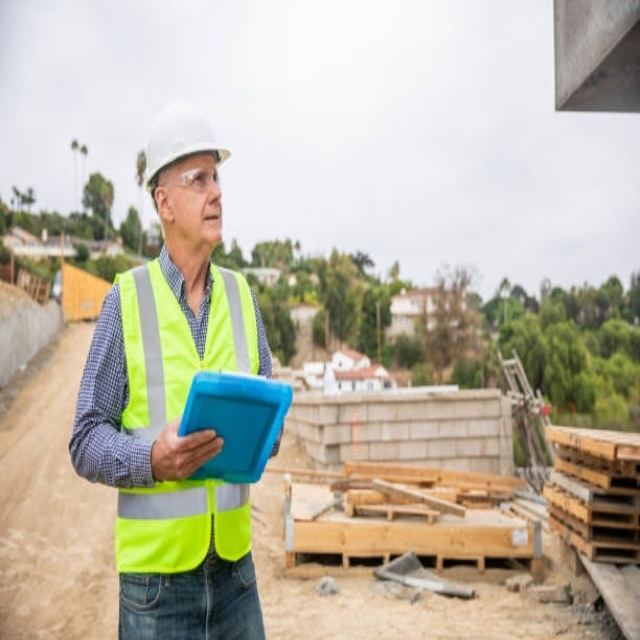Gafas: (159, 167, 221, 193)
Sin_guantes: (155, 414, 225, 483)
Sin_mascara: (198, 205, 224, 243)
